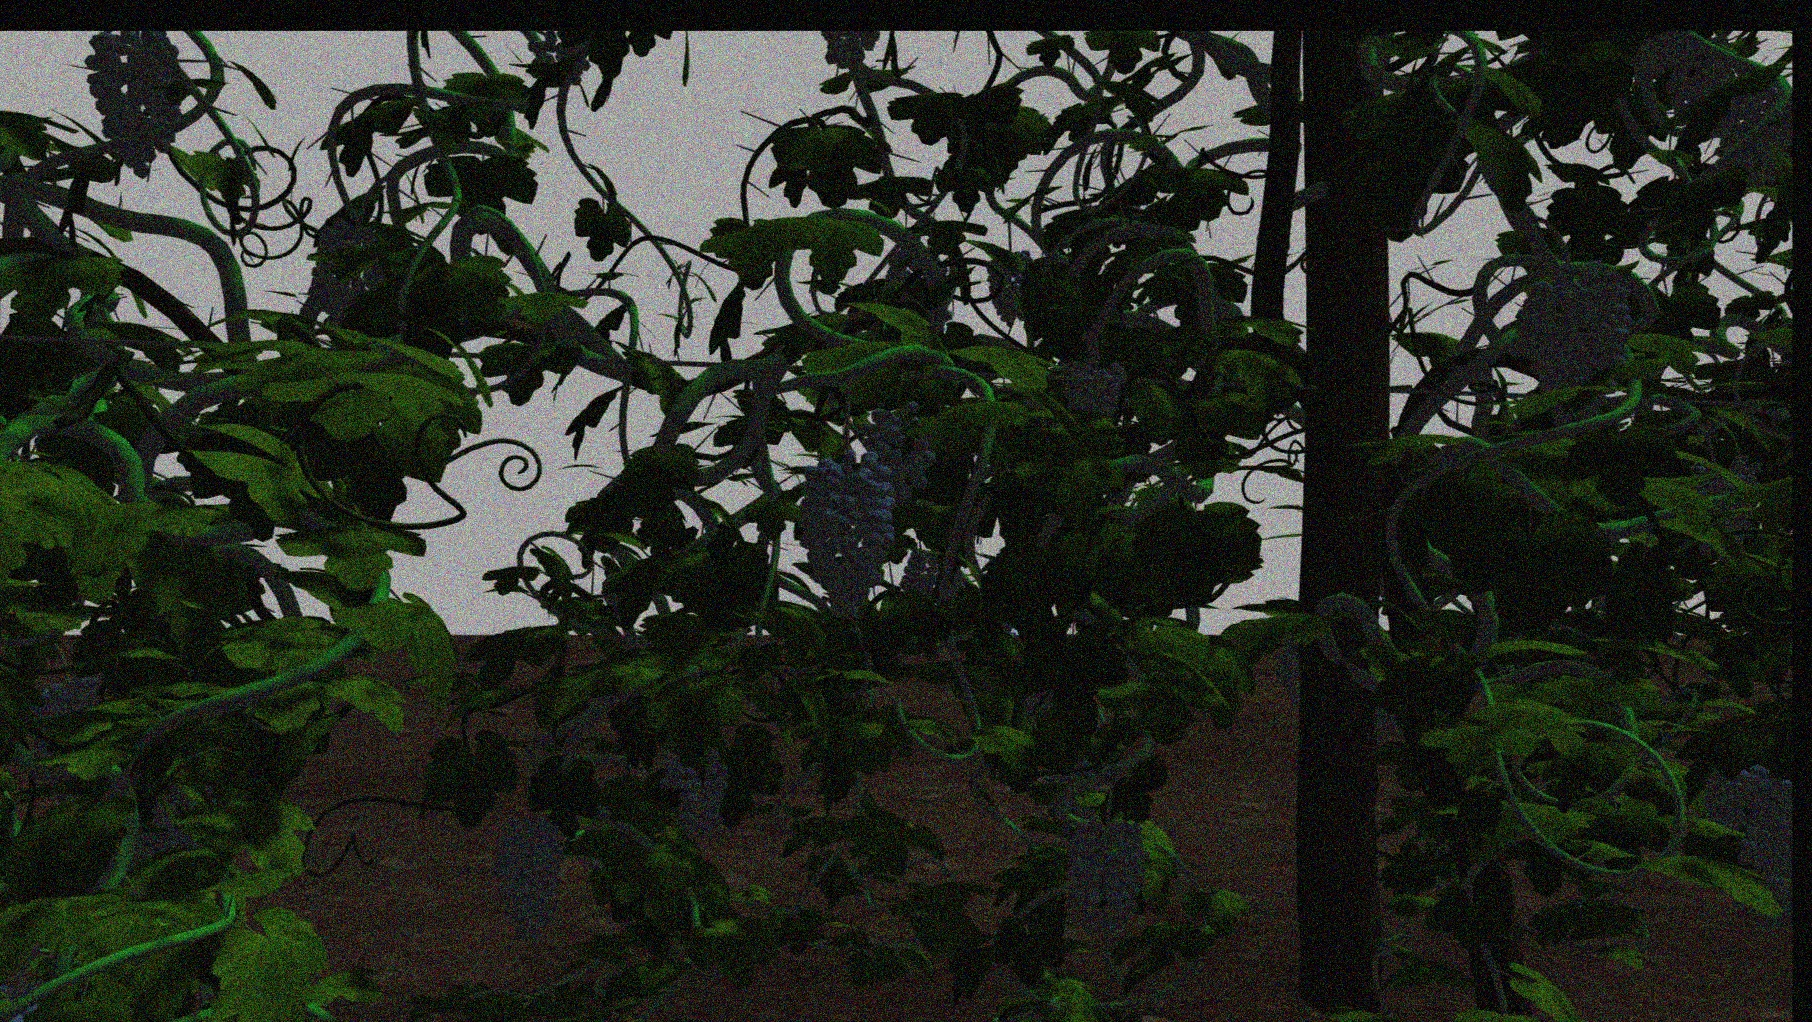grape: (799, 449, 897, 625), (1516, 254, 1637, 392), (82, 32, 189, 177), (1062, 815, 1149, 959), (492, 810, 575, 947), (1722, 761, 1790, 917), (867, 403, 940, 514), (657, 752, 734, 838), (1062, 359, 1130, 422)
